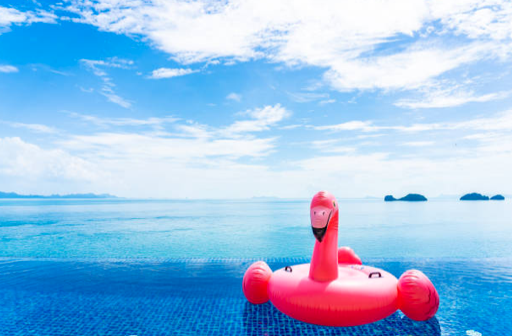Flamingo: (238, 188, 441, 327)
